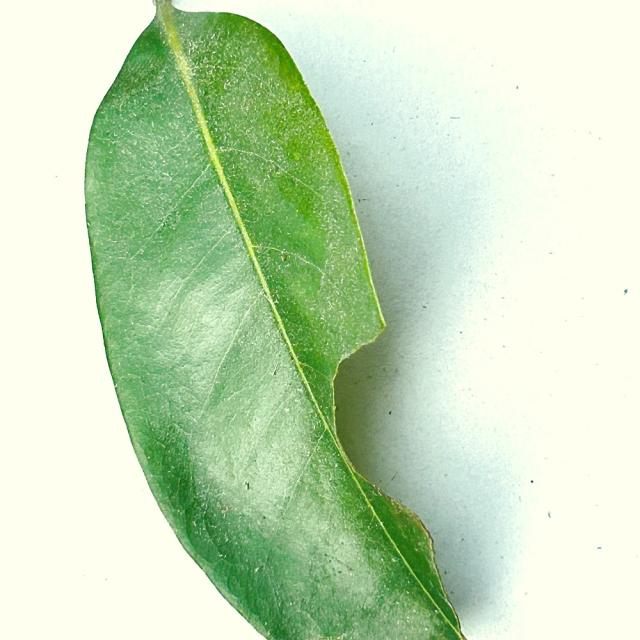Deficiency Leaf: (334, 321, 434, 497)
Lychee: (84, 0, 464, 639)
